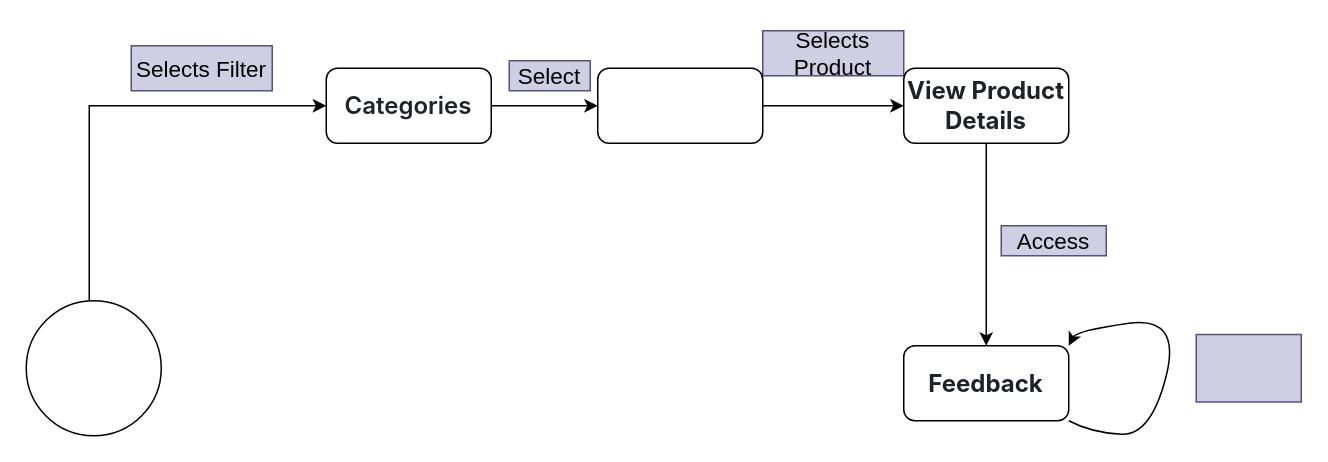
The diagram is 1328 pixels wide and 462 high, and some of its shapes have lost their labels. The centre of each missing label's shape, as x and y in pixels:
"Give Feedback" belongs at (1248,367).
"Products" belongs at (679,105).
"Supermarket" belongs at (93,367).
